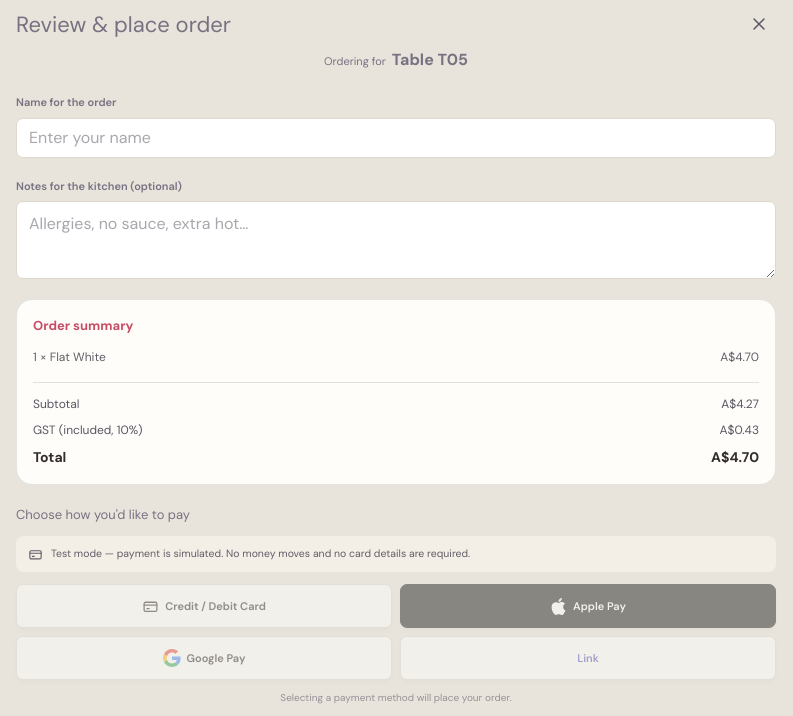
it: CheckoutScreen › disables payment methods until a name is entered
This screenshot has width=793, height=716.
expect the button "Credit / Debit Card" is disabled: met, box [16, 584, 392, 628]
Type "Olivia" into the field labelled "Name for the order" at coordinates (396, 138), box [16, 118, 776, 158]
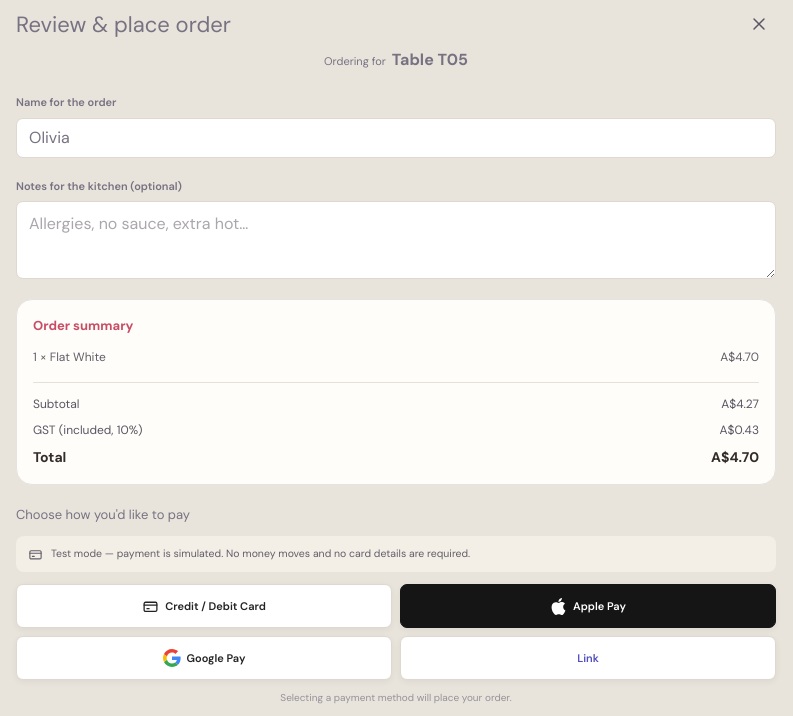
expect the button "Credit / Debit Card" is enabled: met, box [16, 584, 392, 628]
